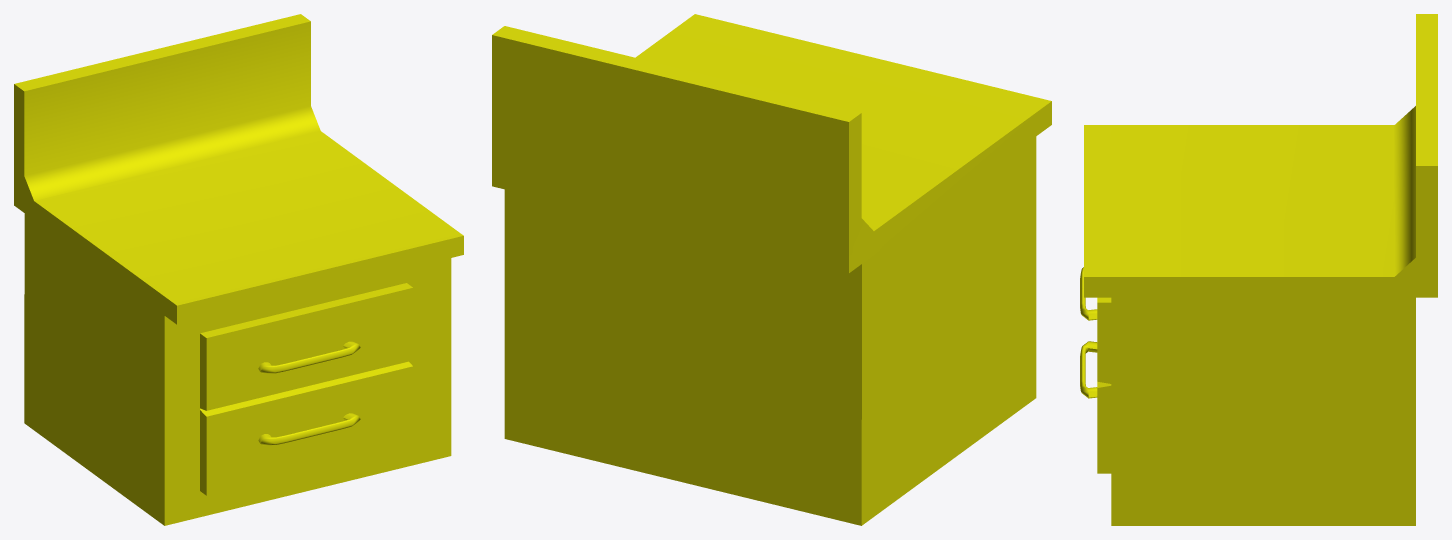
The model's file is Banco_Dritto.fbx.
3 views of the same model, side by side, from view 1: azimuth 30°, elevation 25°; view 2: azimuth 150°, elevation 25°; view 3: azimuth 270°, elevation 25° (orthographic). The views are drawn at different scales.
Visible parts, largest first — view 1: Banco_Dritto; view 2: Banco_Dritto; view 3: Banco_Dritto.
Boxes of the visible parts, x1=… form: Banco_Dritto: x1=14, y1=14, x2=463, y2=525; Banco_Dritto: x1=492, y1=14, x2=1051, y2=525; Banco_Dritto: x1=1080, y1=14, x2=1437, y2=525.
Bounding box in the file's own units: 100 × 111 × 99.58.
